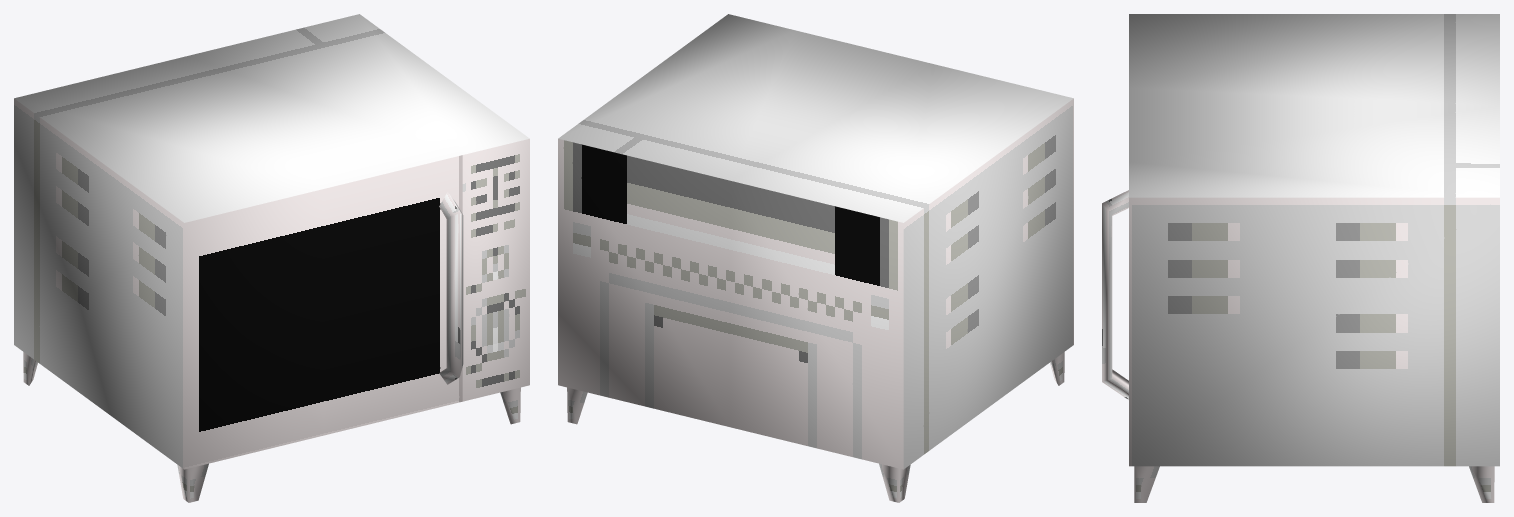
3 renders of one model, left to right at view 1: azimuth 30°, elevation 25°; view 2: azimuth 150°, elevation 25°; view 3: azimuth 270°, elevation 25°, orthographic. The views are drawn at different scales.
Visible parts, largest first — view 1: 3531IMEL01_32; view 2: 3531IMEL01_32; view 3: 3531IMEL01_32.
Boxes of the visible parts, x1=… form: 3531IMEL01_32: x1=14, y1=14, x2=529, y2=502; 3531IMEL01_32: x1=558, y1=14, x2=1073, y2=502; 3531IMEL01_32: x1=1102, y1=14, x2=1499, y2=502.
Size of the model in its own units: 0.8501 by 0.6665 by 0.7781.
Materials: 4 (4 with a texture image).
